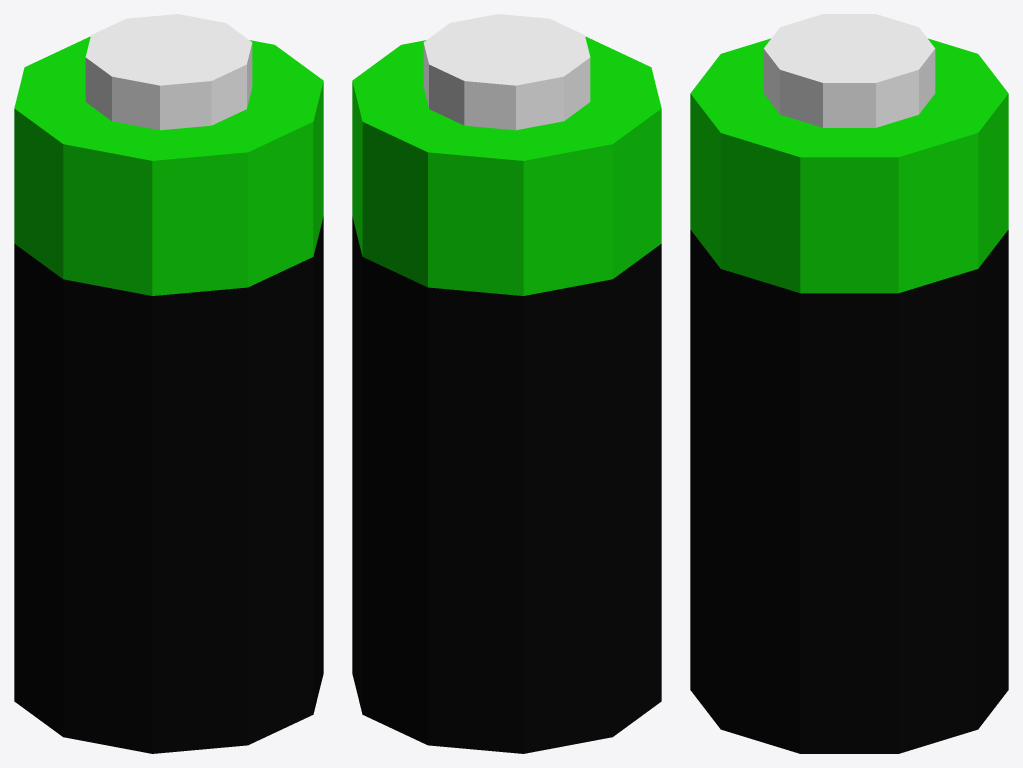
File: battery.glb
The picture shows the model from 3 angles, left to right: view 1: azimuth 30°, elevation 25°; view 2: azimuth 150°, elevation 25°; view 3: azimuth 270°, elevation 25°; orthographic projection.
Parts seen in each view (by area): view 1: Cylinder; view 2: Cylinder; view 3: Cylinder.
Part boxes in pixels (x1,y1,x2,y2): Cylinder: [14, 14, 323, 753]; Cylinder: [352, 14, 661, 753]; Cylinder: [690, 14, 1008, 753].
Bounding box in the file's own units: 3.69 × 8.64 × 3.88.
